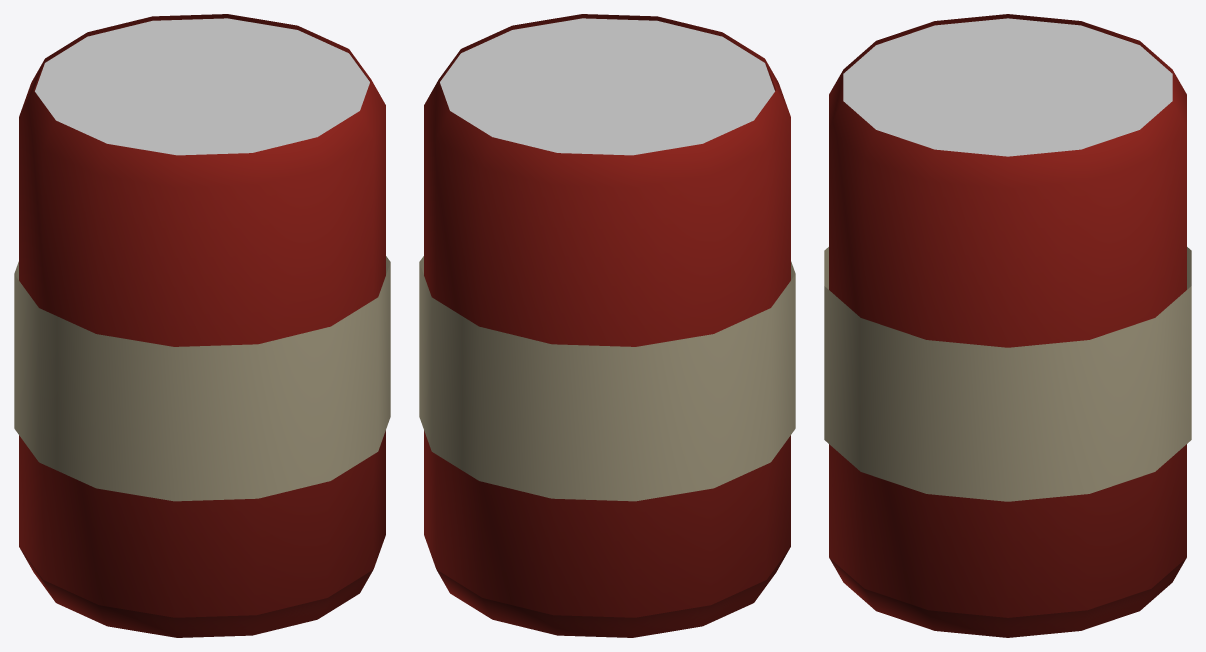
The model's file is lata_legumbres.glb.
The picture shows the model from 3 angles, left to right: view 1: azimuth 30°, elevation 25°; view 2: azimuth 150°, elevation 25°; view 3: azimuth 270°, elevation 25°; orthographic projection.
Visible parts, largest first — view 1: lata_legumbres; view 2: lata_legumbres; view 3: lata_legumbres.
Boxes of the visible parts, x1,y1,x2,y2 form: lata_legumbres: (14,14,390,637); lata_legumbres: (419,14,795,637); lata_legumbres: (824,14,1191,637).
Bounding box in the file's own units: 0.078 × 0.11 × 0.076.
